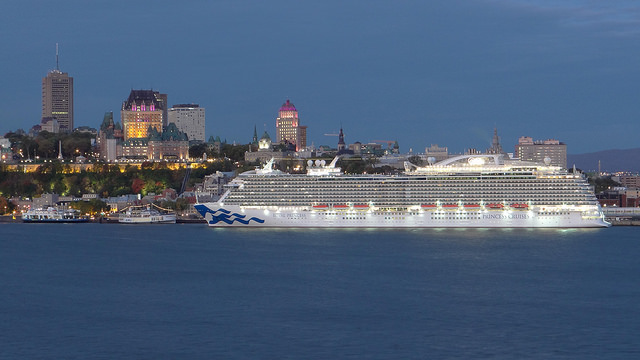boat: (112, 201, 176, 228)
cruise_ship: (195, 152, 611, 232)
